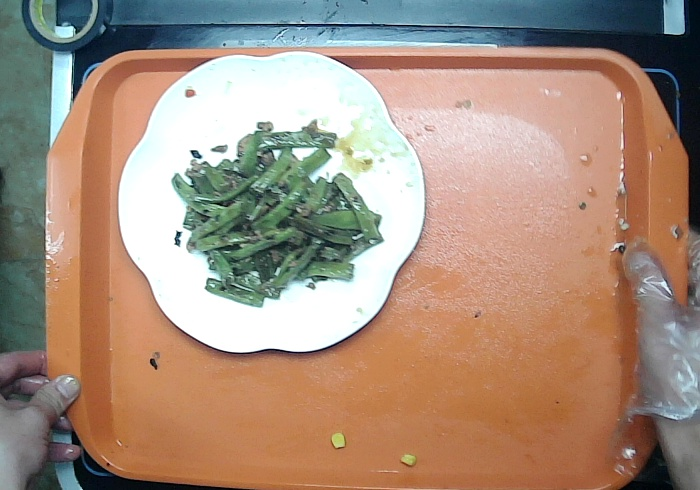HZYJPL-Bai_Se_Hua_Duo_Wan: (115, 48, 427, 357)
